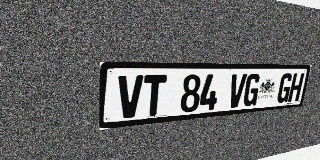4: (199, 74, 221, 111)
8: (180, 74, 203, 113)
G: (242, 74, 262, 107), (276, 73, 294, 103)
H: (288, 73, 305, 102)
T: (142, 75, 167, 117)
V: (117, 75, 144, 119), (227, 74, 247, 108)
